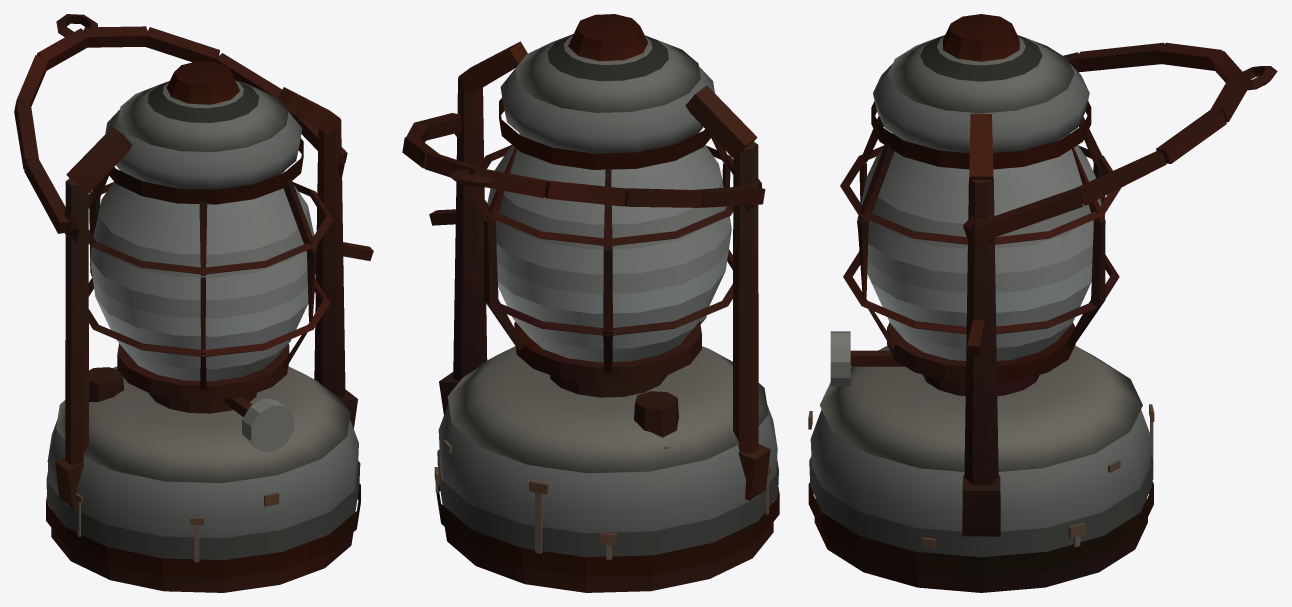
Rendered from lantern_tin_v2.glb.
3 views of the same model, side by side, from view 1: azimuth 30°, elevation 25°; view 2: azimuth 150°, elevation 25°; view 3: azimuth 270°, elevation 25° (orthographic). The views are drawn at different scales.
Visible parts, largest first — view 1: hb_metal, hb_props; view 2: hb_metal, hb_props; view 3: hb_metal, hb_props.
Part boxes in pixels (x1,y1,x2,y2): hb_metal: (14,14,373,592); hb_props: (90,171,316,381); hb_metal: (402,14,779,592); hb_props: (484,133,731,362); hb_metal: (808,14,1277,592); hb_props: (857,133,1105,360).
Size of the model in its own units: 0.1933 by 0.274 by 0.2338.
